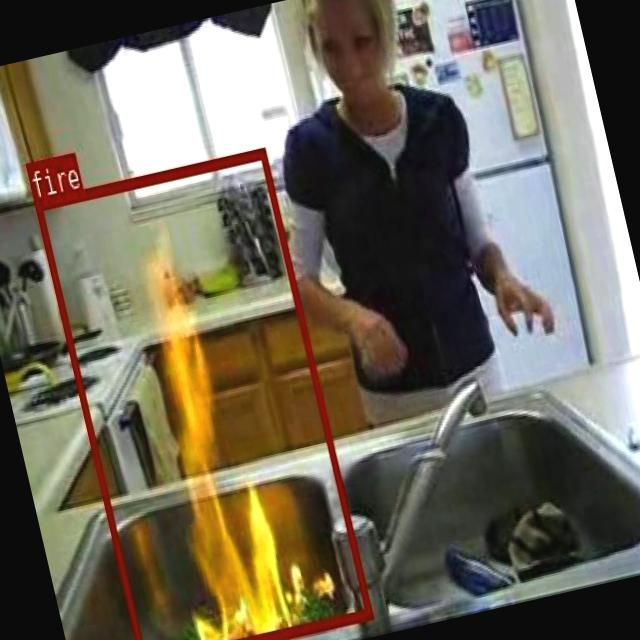fire: (31, 145, 371, 640)
